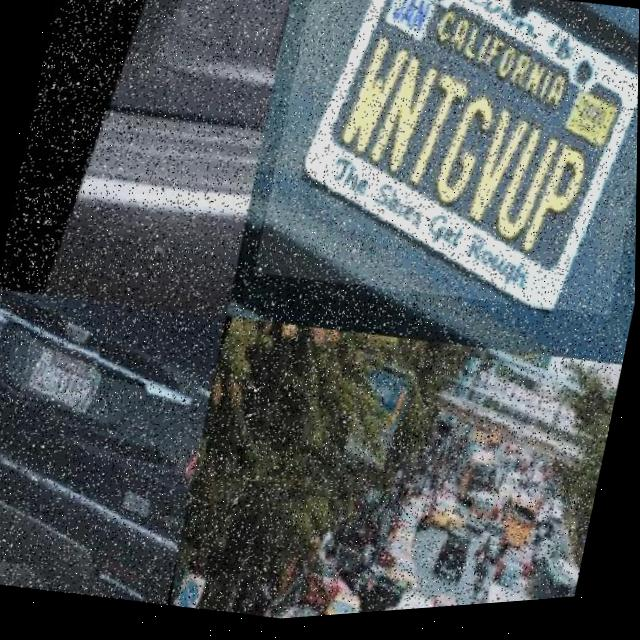LicensePlate: (254, 0, 640, 346), (24, 341, 98, 406)
